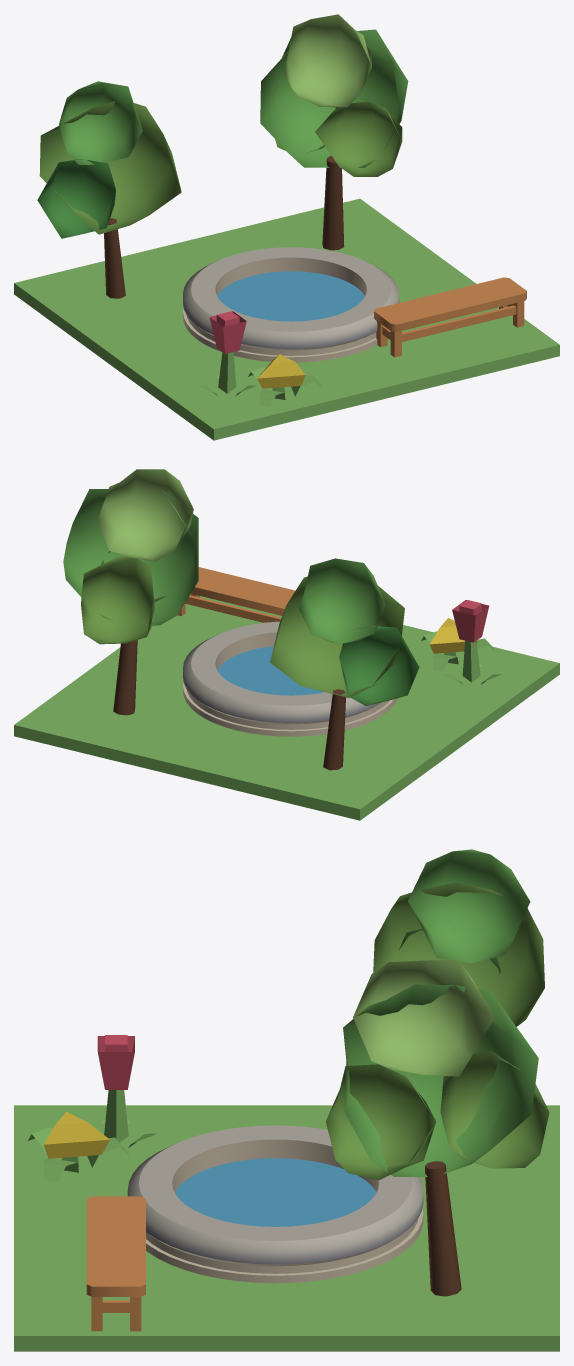
File: park.glb
3 renders of one model, top to bottom at view 1: azimuth 30°, elevation 25°; view 2: azimuth 150°, elevation 25°; view 3: azimuth 270°, elevation 25°, orthographic. The views are drawn at different scales.
Parts seen in each view (by area): view 1: park; view 2: park; view 3: park.
Boxes of the visible parts, box(x1,y1,x2,y2) form: park: box(14, 14, 559, 440); park: box(14, 469, 559, 820); park: box(14, 849, 559, 1351).
Size of the model in its own units: 0.9856 by 0.6554 by 0.9601.
